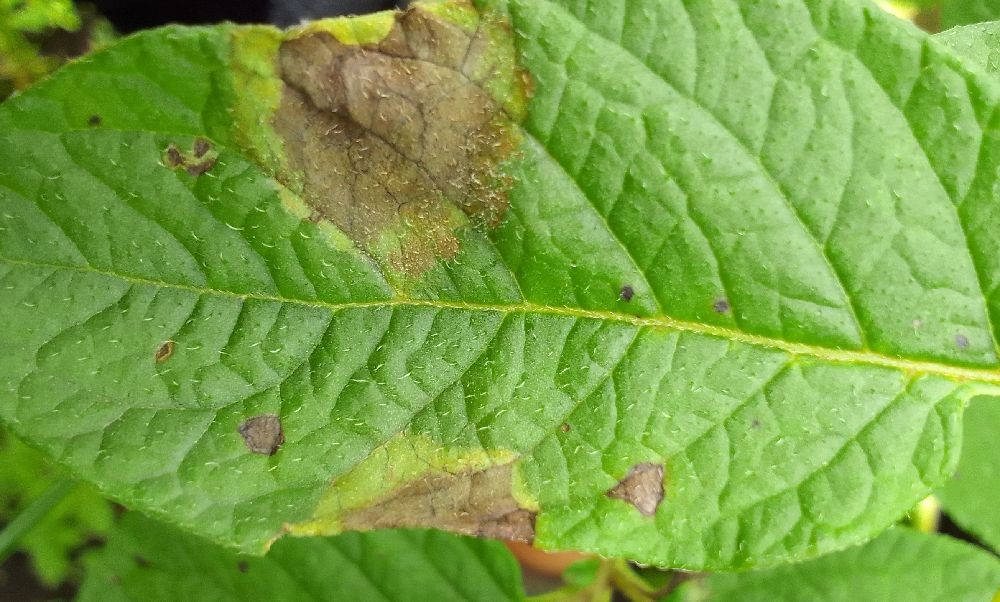late_blight: (258, 0, 551, 294), (313, 435, 617, 602), (0, 0, 133, 114), (0, 541, 90, 602)
